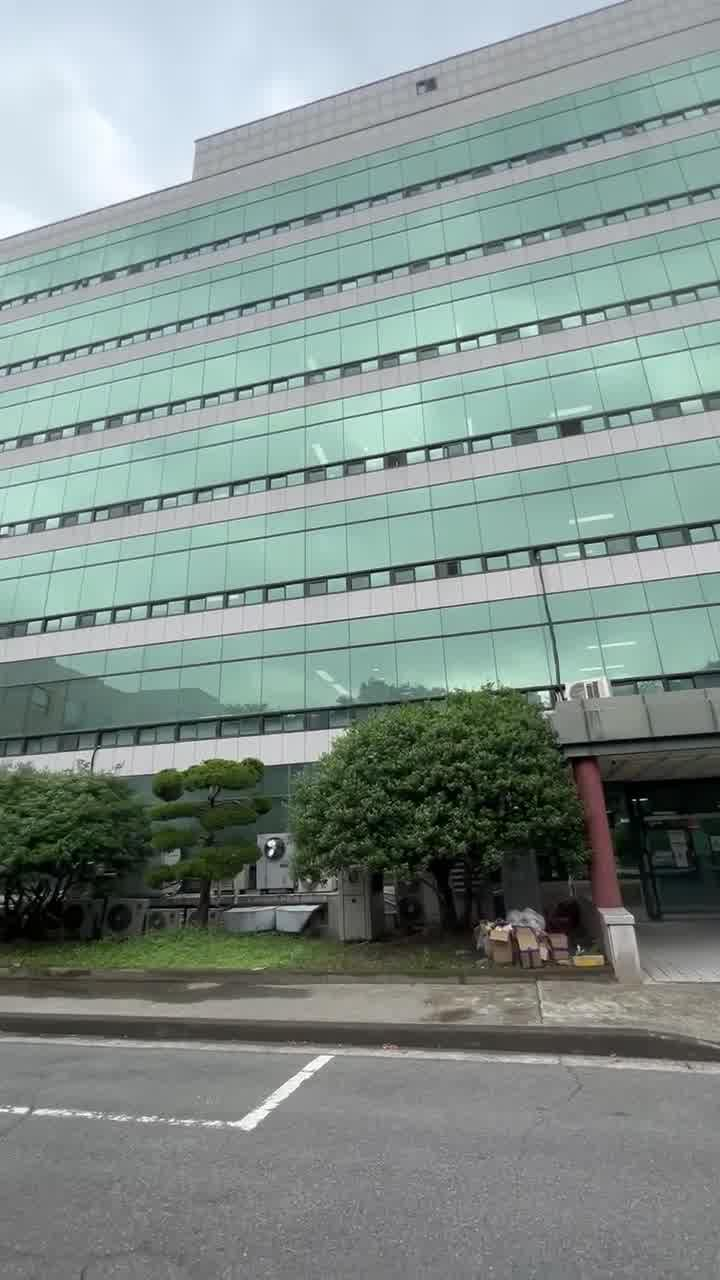building: (10, 162, 712, 670)
